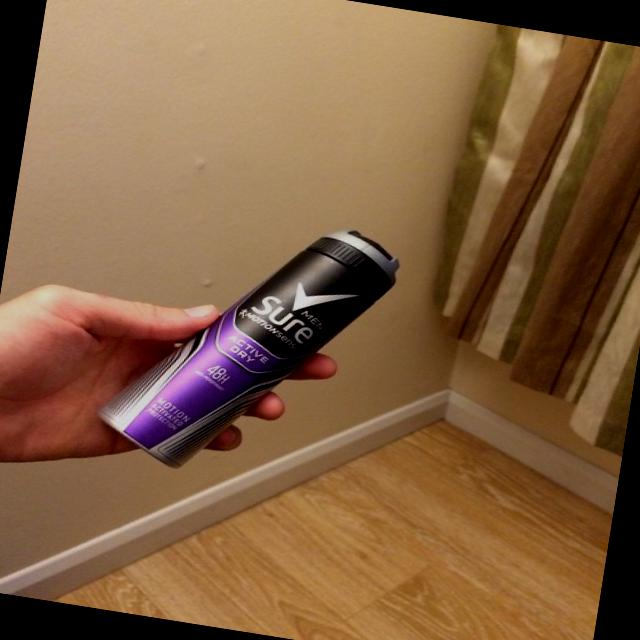Trash: (92, 193, 406, 498)
